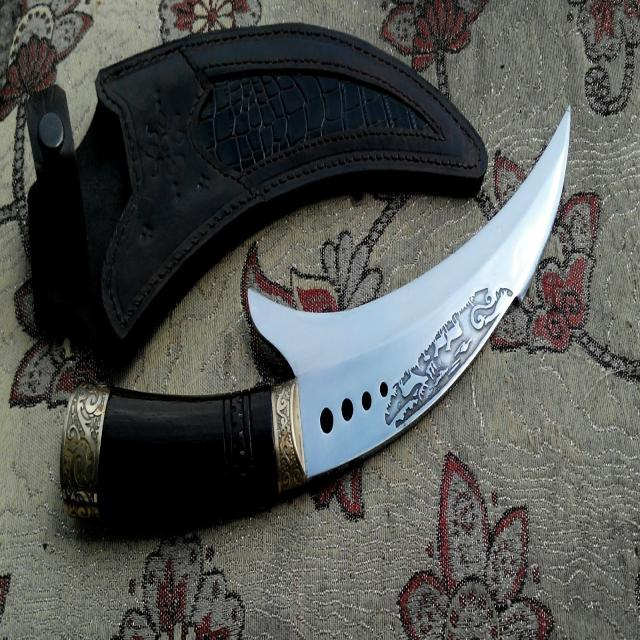Pisau: (38, 86, 579, 548)
